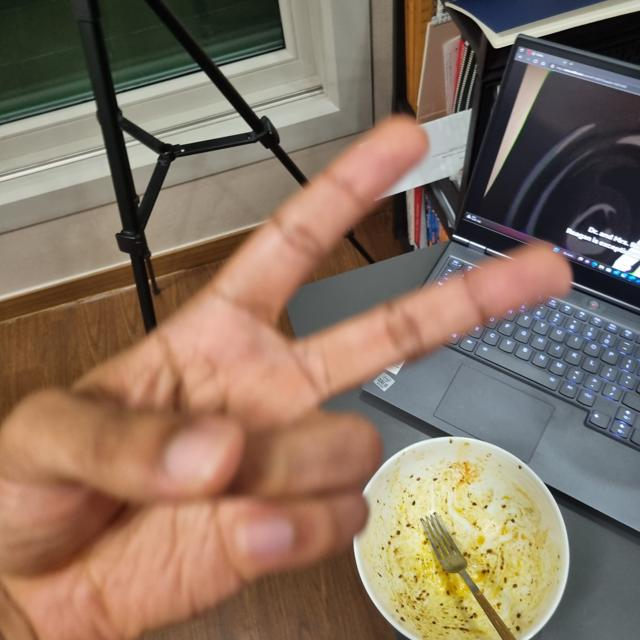Scissors: (0, 118, 575, 639)
